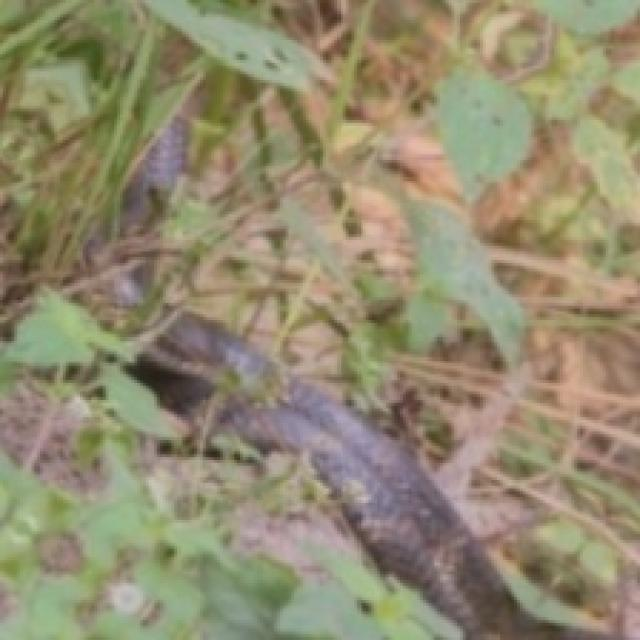king cobra: (69, 117, 637, 637), (331, 197, 526, 414)
